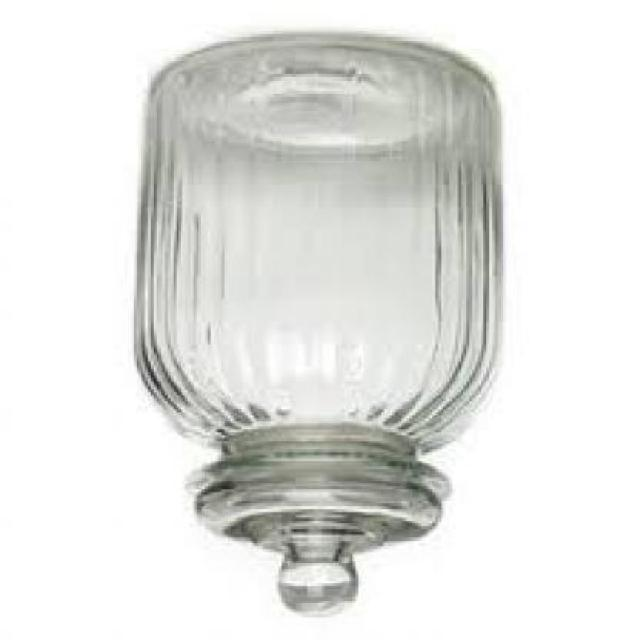GLASS: (131, 37, 503, 620)
